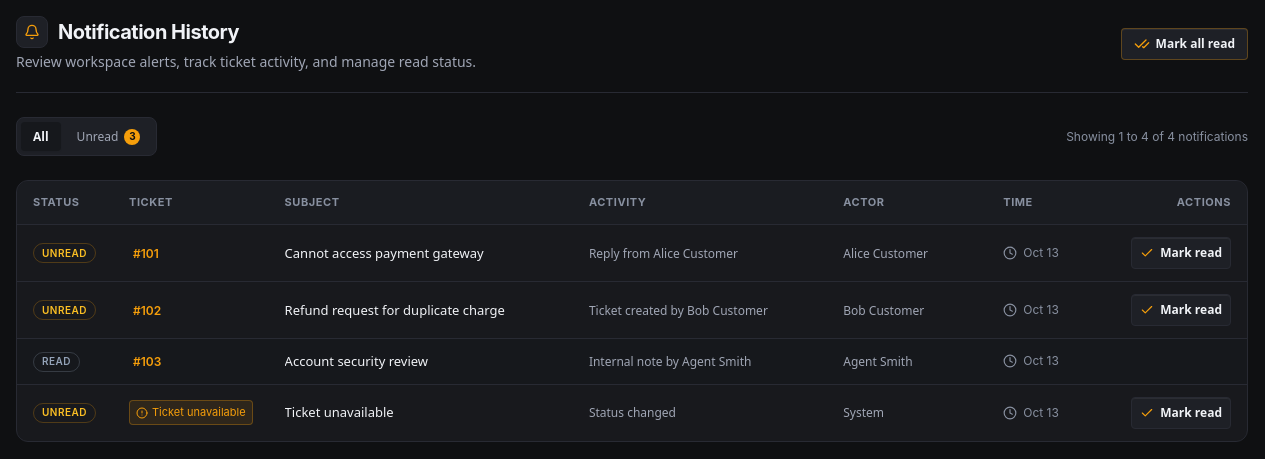
Test: NotificationHistoryView Component › explicit Mark read retains the read item in the view with updated status
Click the button with test id "history-mark-read-btn-notif-101": (1181, 253) [1131,237,1231,269]
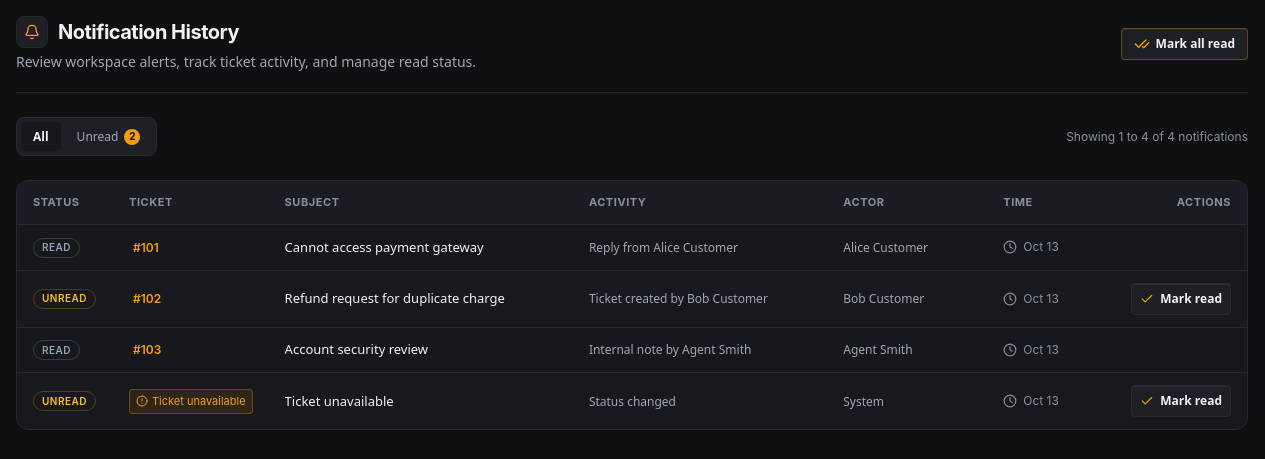
Expected: the text "Cannot access payment gateway" is shown, [285,238,484,256]
Expected: the button with test id "history-mark-read-btn-notif-101" is gone
Expected: the text with test id "status-badge-read-notif-101" reads "Read", [42,241,71,253]
